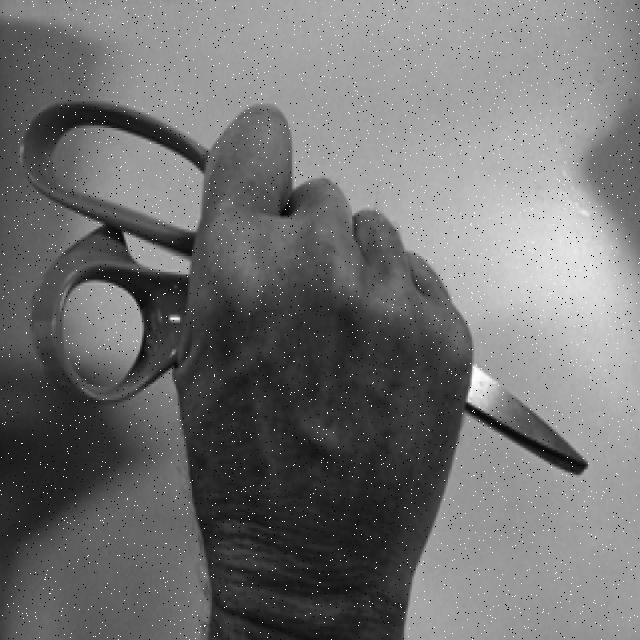scissors: (15, 87, 591, 485)
